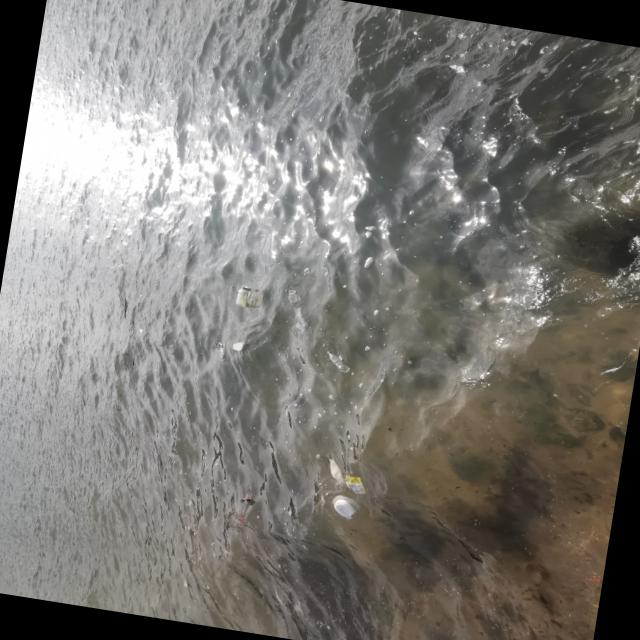foam: (331, 494, 363, 522), (232, 340, 249, 352)
plastic bottle: (325, 351, 353, 373), (238, 287, 251, 308)
